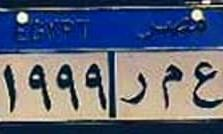1: (3, 65, 18, 113)
9: (56, 64, 78, 108), (29, 66, 50, 110), (85, 62, 104, 108)
ain: (190, 57, 220, 108)
meem: (158, 63, 186, 109)
raa: (119, 70, 149, 107)
